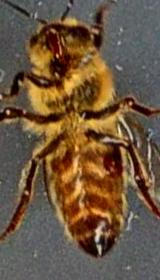varroa_mite: (97, 142, 123, 181)
